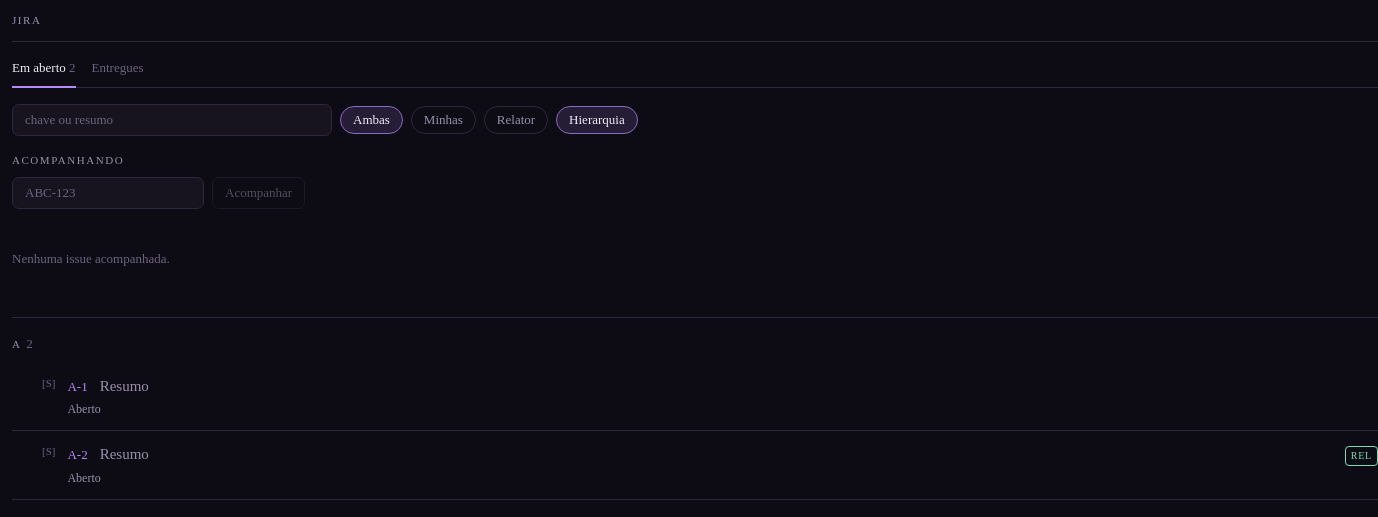
Test case: JiraPanel › mostra o contador quando um filtro está ativo
Click the button "Minhas": (443, 120) [411,106,476,134]
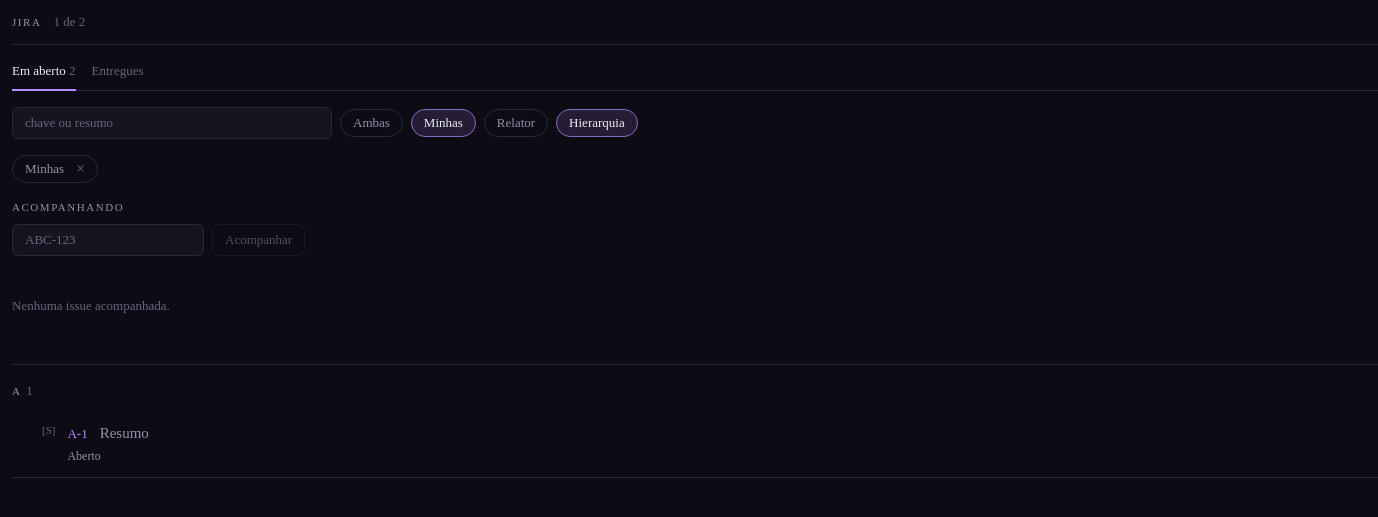
Expected: the text "1 de 2" is shown, [53,12,85,32]
